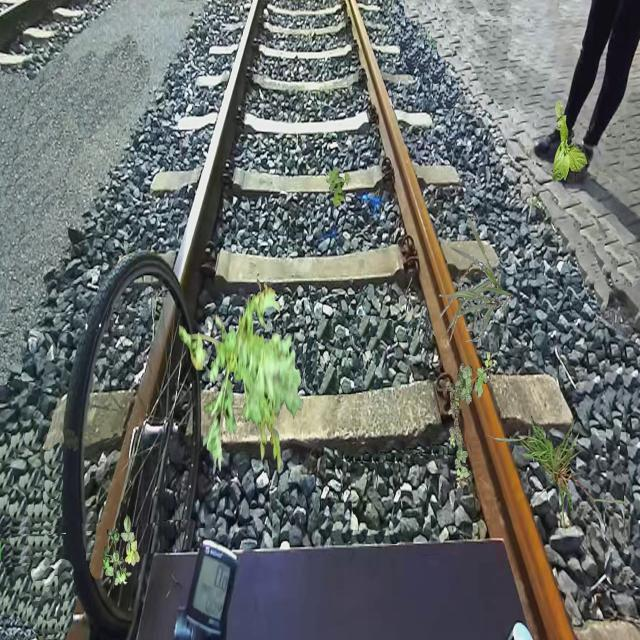Plant: (179, 279, 304, 475), (483, 415, 626, 534), (440, 217, 513, 342), (446, 352, 494, 490), (552, 100, 588, 184), (102, 516, 140, 590), (327, 166, 351, 207)
